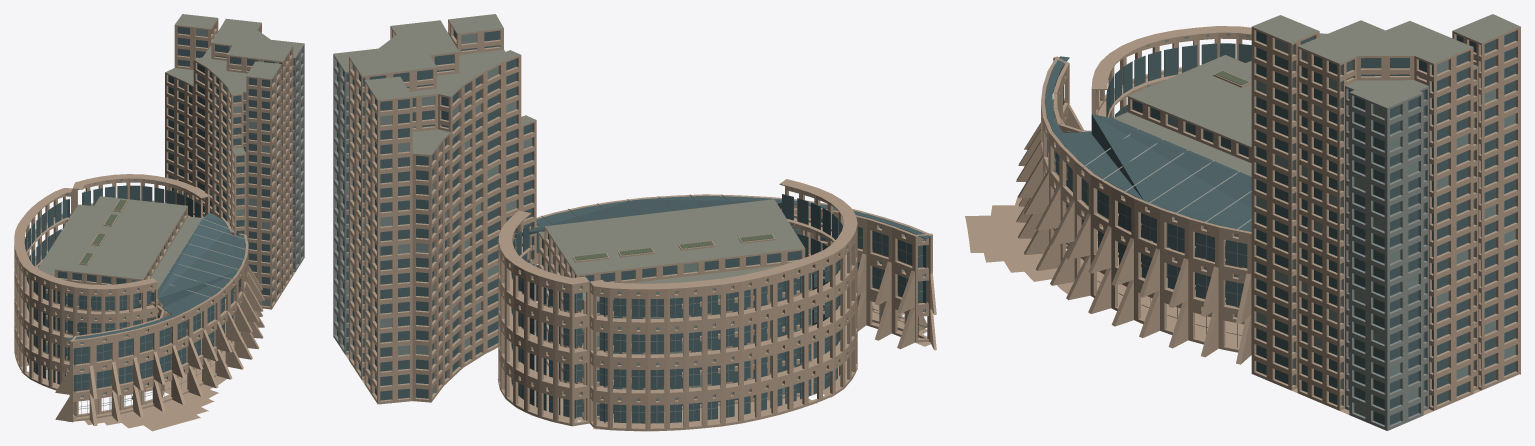
Rendered from vancouver-public-library-near.glb.
The picture shows the model from 3 angles, left to right: view 1: azimuth 30°, elevation 25°; view 2: azimuth 150°, elevation 25°; view 3: azimuth 270°, elevation 25°; orthographic projection. The views are drawn at different scales.
Visible parts, largest first — view 1: vancouver-public-library-0-stone, vancouver-public-library-0-glass, vancouver-public-library-0-roof, vancouver-public-library-0-frame, vancouver-public-library-0-glow, vancouver-public-library-0-garden; view 2: vancouver-public-library-0-stone, vancouver-public-library-0-glass, vancouver-public-library-0-roof, vancouver-public-library-0-frame, vancouver-public-library-0-glow, vancouver-public-library-0-garden; view 3: vancouver-public-library-0-stone, vancouver-public-library-0-glass, vancouver-public-library-0-frame, vancouver-public-library-0-roof, vancouver-public-library-0-glow.
Part boxes in pixels (<box>): vancouver-public-library-0-stone: <box>14,18,294,431</box>; vancouver-public-library-0-glass: <box>24,25,301,392</box>; vancouver-public-library-0-roof: <box>38,14,304,291</box>; vancouver-public-library-0-frame: <box>33,44,304,417</box>; vancouver-public-library-0-glow: <box>36,29,301,397</box>; vancouver-public-library-0-garden: <box>80,199,126,263</box>; vancouver-public-library-0-stone: <box>345,20,936,431</box>; vancouver-public-library-0-glass: <box>337,30,931,423</box>; vancouver-public-library-0-roof: <box>333,14,811,301</box>; vancouver-public-library-0-frame: <box>333,54,927,423</box>; vancouver-public-library-0-glow: <box>337,33,924,411</box>; vancouver-public-library-0-garden: <box>574,234,773,260</box>; vancouver-public-library-0-stone: <box>965,26,1520,415</box>; vancouver-public-library-0-glass: <box>1045,31,1515,424</box>; vancouver-public-library-0-frame: <box>1054,86,1428,430</box>; vancouver-public-library-0-roof: <box>1113,14,1520,176</box>; vancouver-public-library-0-glow: <box>1049,33,1515,416</box>.
Bounding box in the file's own units: 138 × 86 × 124.
